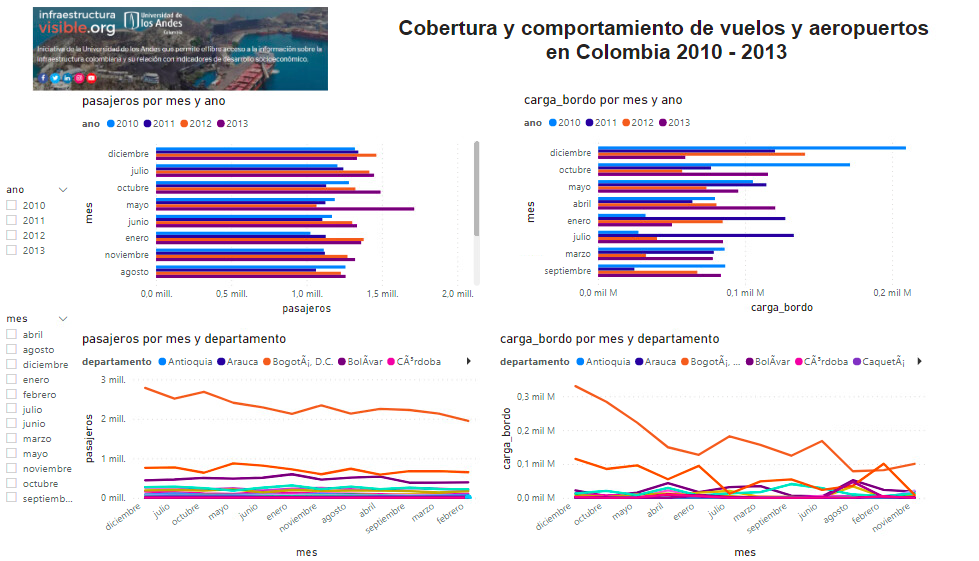

What the dashboard file says about the page in this screenshot:
{"tool":"powerbi","page":{"name":"Página 1","canvas":[1280,720],"ordinal":0},"visuals":[{"type":"barChart","fields":{"Y":["Sum(vuelos.pasajeros)"],"Category":["fechas.fecha"]},"box":[0,98.6,660.3,324.9],"z":0},{"type":"barChart","fields":{"Category":["fechas.fecha"],"Y":["Sum(vuelos.carga_bordo)"]},"box":[660.3,98.6,619.7,312.2],"z":1},{"type":"lineChart","fields":{"Y":["Sum(vuelos.pasajeros)"],"Category":["fechas.fecha"],"Series":["aeropuertos.departamento"]},"box":[0,434,660.3,285.5],"z":2},{"type":"lineChart","fields":{"Category":["fechas.fecha"],"Series":["aeropuertos.departamento"],"Y":["Sum(vuelos.carga_bordo)"]},"box":[660.3,434,619.7,285.5],"z":3},{"type":"slicer","fields":{"Values":["fechas.fecha"]},"box":[1027,0,253,98.6],"z":4},{"type":"textbox","box":[56.9,9.3,922.6,81.2],"z":5}]}

Visuals, with their boxes on the page's 1280x720 design canvas (x1, y1, x2, y2). These are canvas units, not pixel positions in the 979x561 screenshot, which may show the page scaled, cropped or inside an application window:
barChart - Sum(vuelos.pasajeros) x fechas.fecha: left=0, top=99, right=660, bottom=424
barChart - fechas.fecha x Sum(vuelos.carga_bordo): left=660, top=99, right=1280, bottom=411
lineChart - Sum(vuelos.pasajeros) x fechas.fecha: left=0, top=434, right=660, bottom=720
lineChart - fechas.fecha x aeropuertos.departamento: left=660, top=434, right=1280, bottom=720
slicer - fechas.fecha: left=1027, top=0, right=1280, bottom=99
textbox: left=57, top=9, right=980, bottom=90
